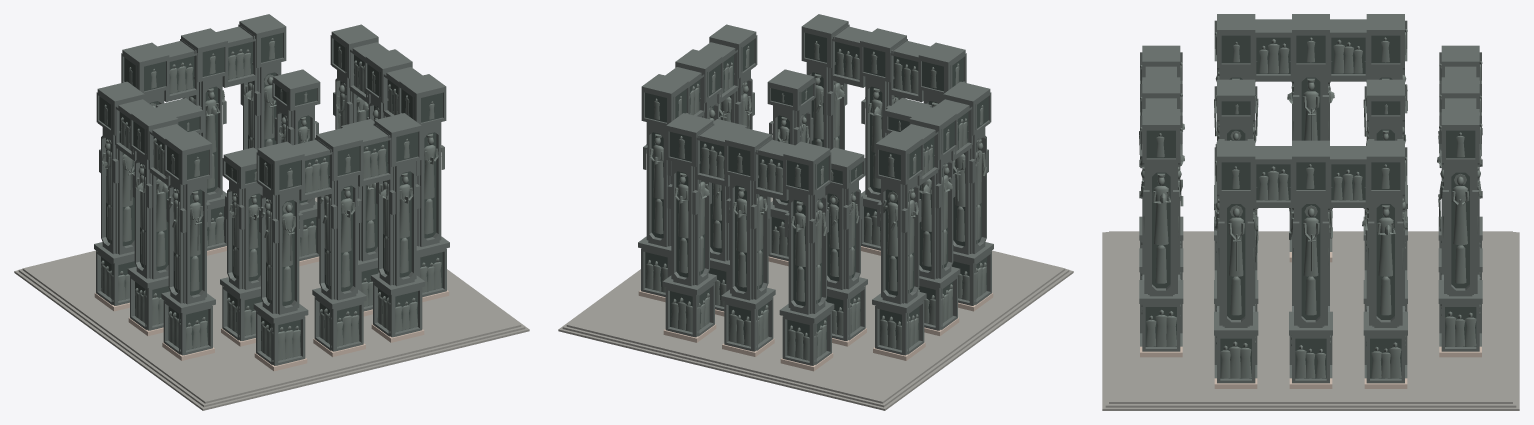
The model's file is tbilisi-chronicle-of-georgia.detail.glb.
3 views of the same model, side by side, from view 1: azimuth 30°, elevation 25°; view 2: azimuth 150°, elevation 25°; view 3: azimuth 270°, elevation 25° (orthographic). The views are drawn at different scales.
Parts seen in each view (by area): view 1: The Chronicle of Georgia; view 2: The Chronicle of Georgia; view 3: The Chronicle of Georgia.
Part boxes in pixels (x1,y1,x2,y2): The Chronicle of Georgia: (14, 14, 529, 410); The Chronicle of Georgia: (558, 14, 1073, 410); The Chronicle of Georgia: (1102, 14, 1519, 410).
Bounding box in the file's own units: 55.8 × 35 × 55.8.
